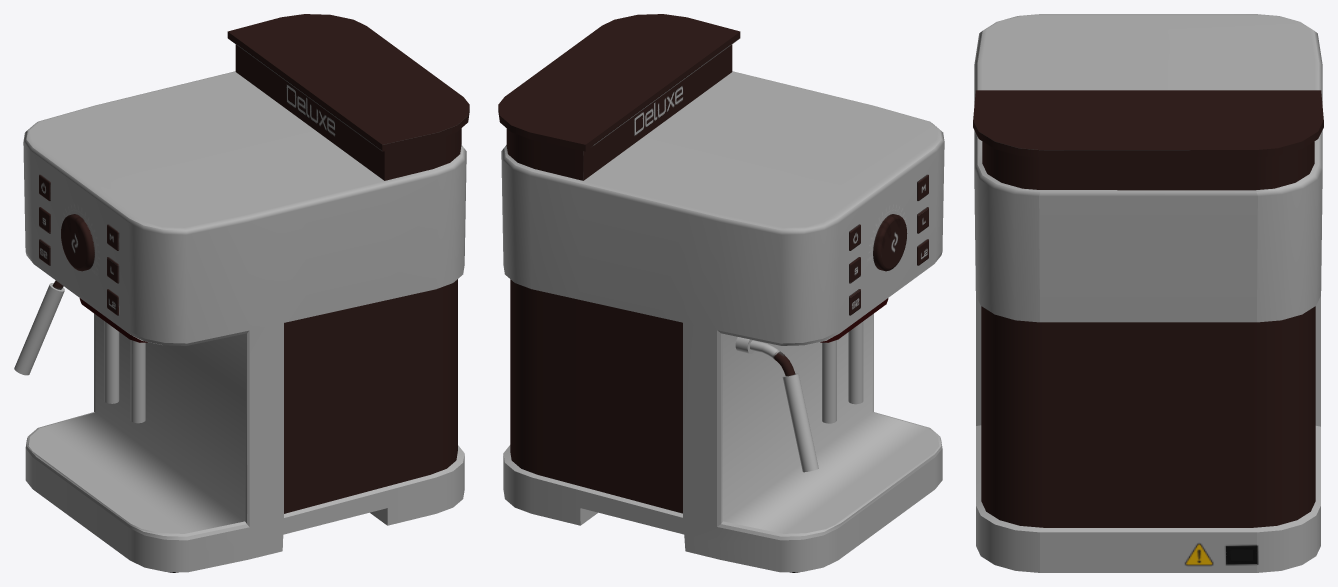
File: SM_EspressoMachineSilverS.fbx
3 views of the same model, side by side, from view 1: azimuth 30°, elevation 25°; view 2: azimuth 150°, elevation 25°; view 3: azimuth 270°, elevation 25° (orthographic). The views are drawn at different scales.
Parts seen in each view (by area): view 1: SM_EspressoMachineSilverS_LOD0; view 2: SM_EspressoMachineSilverS_LOD0; view 3: SM_EspressoMachineSilverS_LOD0.
Boxes of the visible parts, box(x1,y1,x2,y2) form: SM_EspressoMachineSilverS_LOD0: box(14, 14, 469, 572); SM_EspressoMachineSilverS_LOD0: box(498, 14, 944, 572); SM_EspressoMachineSilverS_LOD0: box(973, 14, 1323, 572).
Size of the model in its own units: 47 by 37.54 by 51.08.
Materials: 1 (1 with a texture image).
